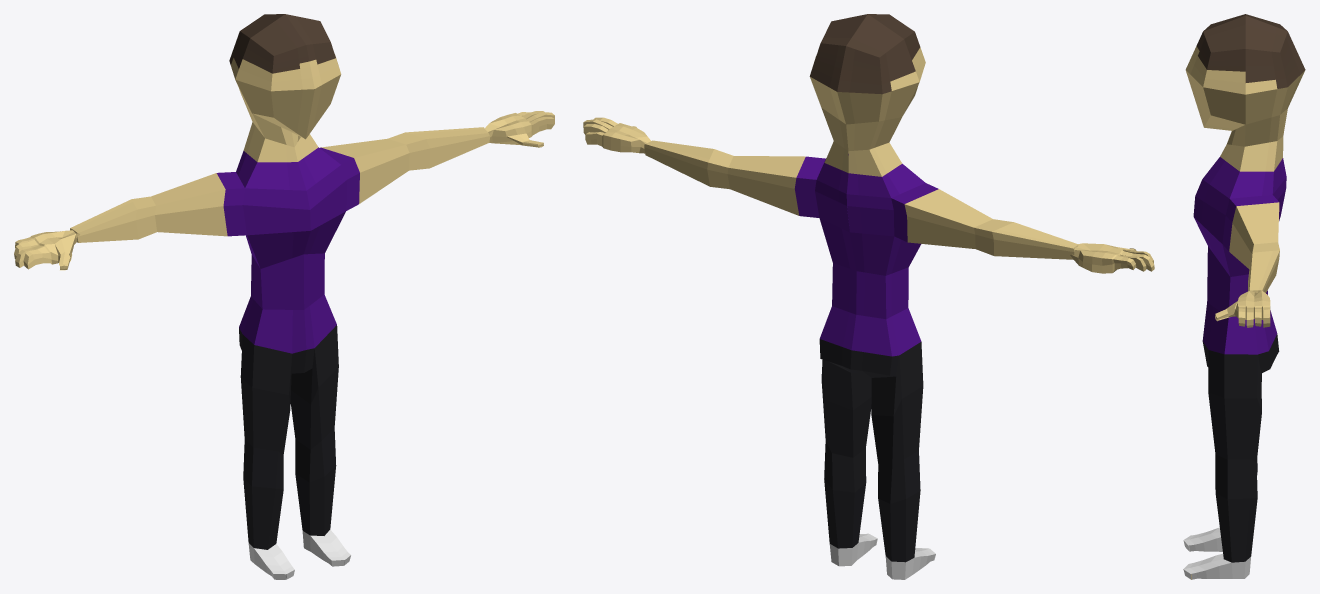
Rendered from pelihahmo_esport.fbx.
The picture shows the model from 3 angles, left to right: view 1: azimuth 30°, elevation 25°; view 2: azimuth 150°, elevation 25°; view 3: azimuth 270°, elevation 25°; orthographic projection. The views are drawn at different scales.
Parts seen in each view (by area): view 1: Cube.003; view 2: Cube.003; view 3: Cube.003.
Part boxes in pixels (<box>): Cube.003: <box>14,14,554,579</box>; Cube.003: <box>583,14,1154,579</box>; Cube.003: <box>1183,14,1305,579</box>.
Bounding box in the file's own units: 1836 × 1740 × 352.
